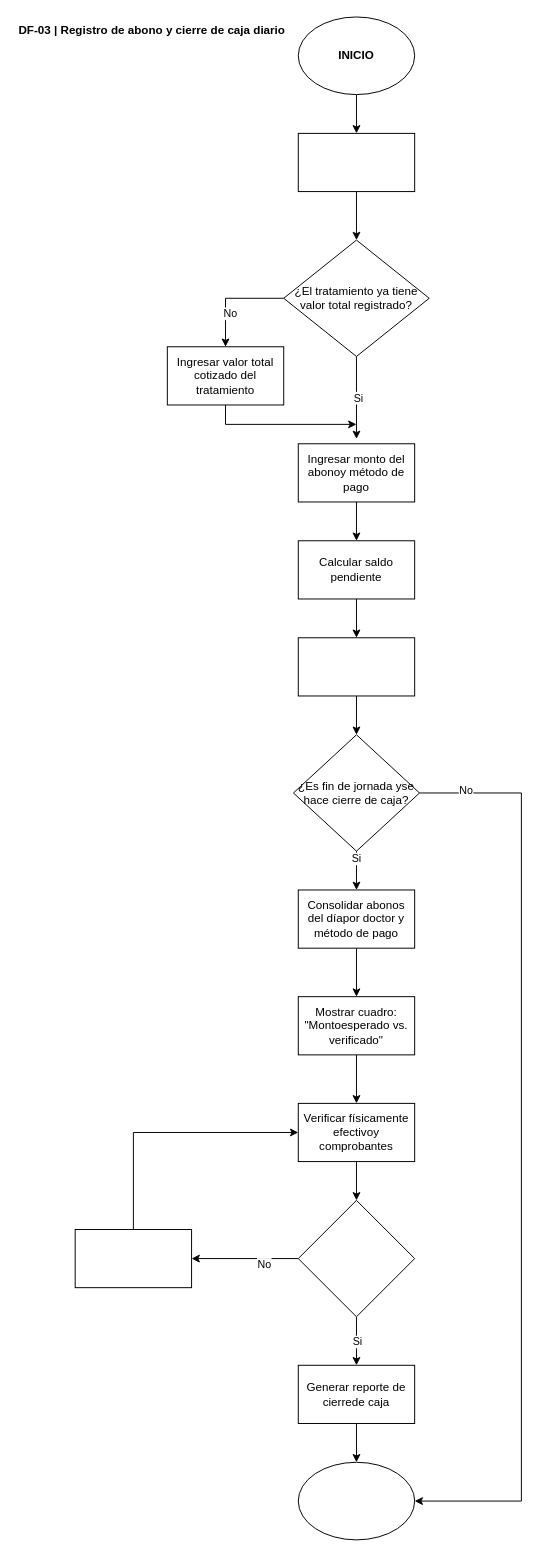
This 546x1557 diagram has some shape labels left out. Each missing label, with the centre of its shape:
"Anotar descuadre" goes at (133,1258).
"FIN" goes at (356,1500).
"Registrar abono asociadoal doctor correspondiente" goes at (356,666).
"Seleccionar paciente y tratamiento activo" goes at (356,162).
"¿Los valorescoinciden?" goes at (356,1258).
